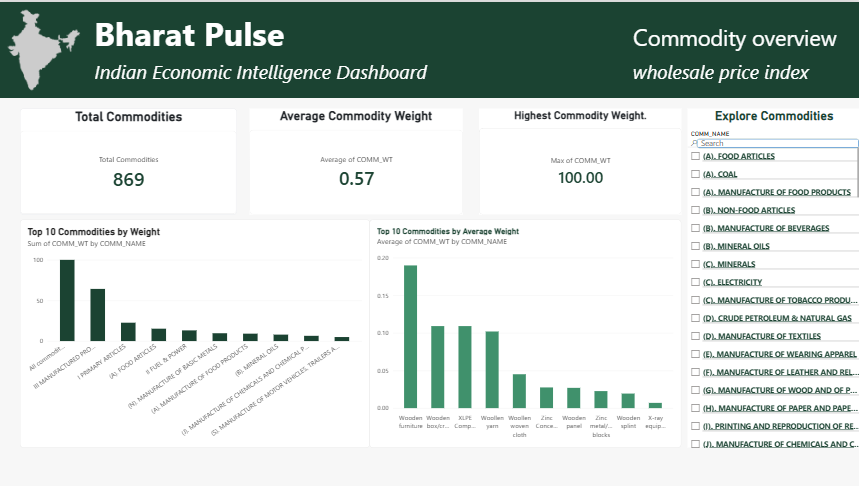

The dashboard page shown, as its layout file describes it:
{"tool":"powerbi","page":{"name":"Page 1","canvas":[1920,1080],"ordinal":0},"visuals":[{"type":"clusteredColumnChart","title":"Top 10 Commodities by Weight","fields":{"Category":["bharatpulse_cleaned.COMM_NAME"],"Y":["Sum(bharatpulse_cleaned.COMM_WT)"]},"box":[52.5,482.5,777.5,507.5],"z":0},{"type":"textbox","box":[0,0,1920,213.3],"z":1000},{"type":"cardVisual","title":"Total Commodities","fields":{"Data":["bharatpulse_cleaned.Total Commodities"]},"box":[54,238,482,236],"z":2000},{"type":"cardVisual","title":"Average Commodity Weight","fields":{"Data":["Avg(bharatpulse_cleaned.COMM_WT)"]},"box":[562,238,474,236],"z":3000},{"type":"cardVisual","title":"Highest Commodity Weight.","fields":{"Data":["Max(bharatpulse_cleaned.COMM_WT)"]},"box":[1074,238,450,236],"z":4000},{"type":"slicer","title":"Explore Commodities","fields":{"Values":["bharatpulse_cleaned.COMM_NAME"]},"box":[1535,236.7,385,753.3],"z":5000},{"type":"clusteredColumnChart","title":"Top 10 Commodities by Average Weight","fields":{"Category":["bharatpulse_cleaned.COMM_NAME"],"Y":["Avg(bharatpulse_cleaned.COMM_WT)"]},"box":[830,482.5,692.5,507.5],"z":6000},{"type":"image","box":[17.5,16.2,178.9,180],"z":7000},{"type":"shape","box":[1558,302,362,22],"z":8000}]}

Visuals, with their boxes in screenshot pixels (x1, y1, x2, y2), scaled from the page's 1920x1080 canvas onto the 859x486 screenshot:
"Top 10 Commodities by Weight" clusteredColumnChart: {"left": 23, "top": 217, "right": 371, "bottom": 446}
textbox: {"left": 0, "top": 0, "right": 858, "bottom": 96}
"Total Commodities" cardVisual: {"left": 24, "top": 107, "right": 240, "bottom": 213}
"Average Commodity Weight" cardVisual: {"left": 251, "top": 107, "right": 464, "bottom": 213}
"Highest Commodity Weight." cardVisual: {"left": 481, "top": 107, "right": 682, "bottom": 213}
"Explore Commodities" slicer: {"left": 687, "top": 107, "right": 858, "bottom": 446}
"Top 10 Commodities by Average Weight" clusteredColumnChart: {"left": 371, "top": 217, "right": 681, "bottom": 446}
image: {"left": 8, "top": 7, "right": 88, "bottom": 88}
shape: {"left": 697, "top": 136, "right": 858, "bottom": 146}
